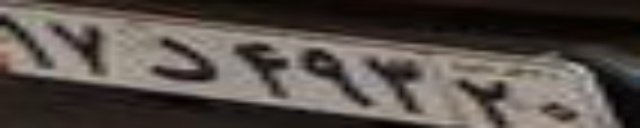0: (534, 100, 582, 121)
1: (0, 12, 52, 67)
2: (451, 76, 514, 126)
3: (364, 55, 430, 115)
4: (229, 41, 297, 99)
7: (51, 22, 113, 73)
9: (296, 48, 367, 107)
dal: (141, 36, 218, 81)
